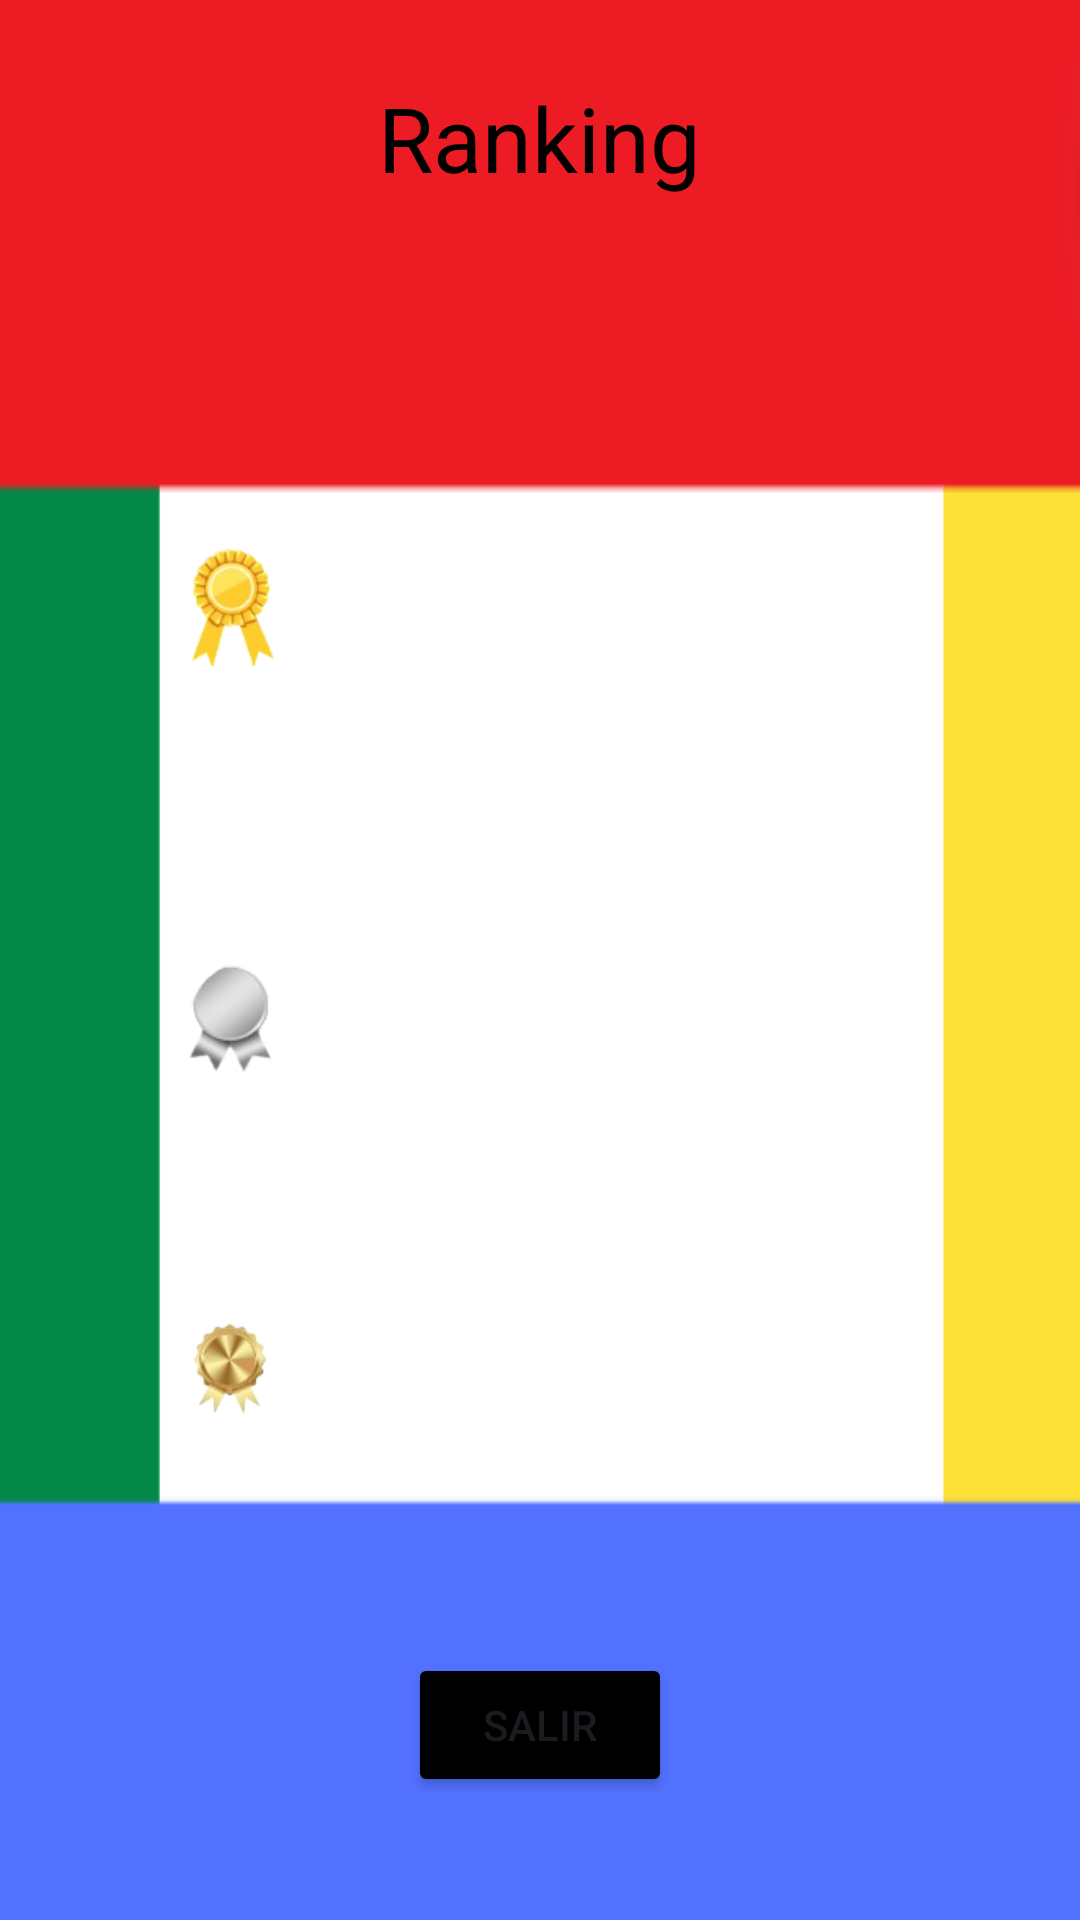

Screen size 1080w x 1920h. Icon name, then its center in pixels as [x,y]:
medalla bronze: [230,1368]
medalla oro: [233,607]
medalla plata: [230,1019]
